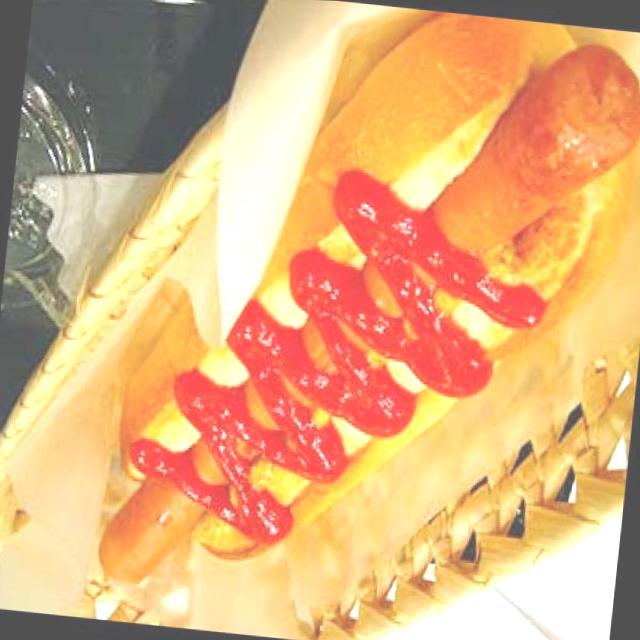Hot Dog: (85, 0, 640, 610)
